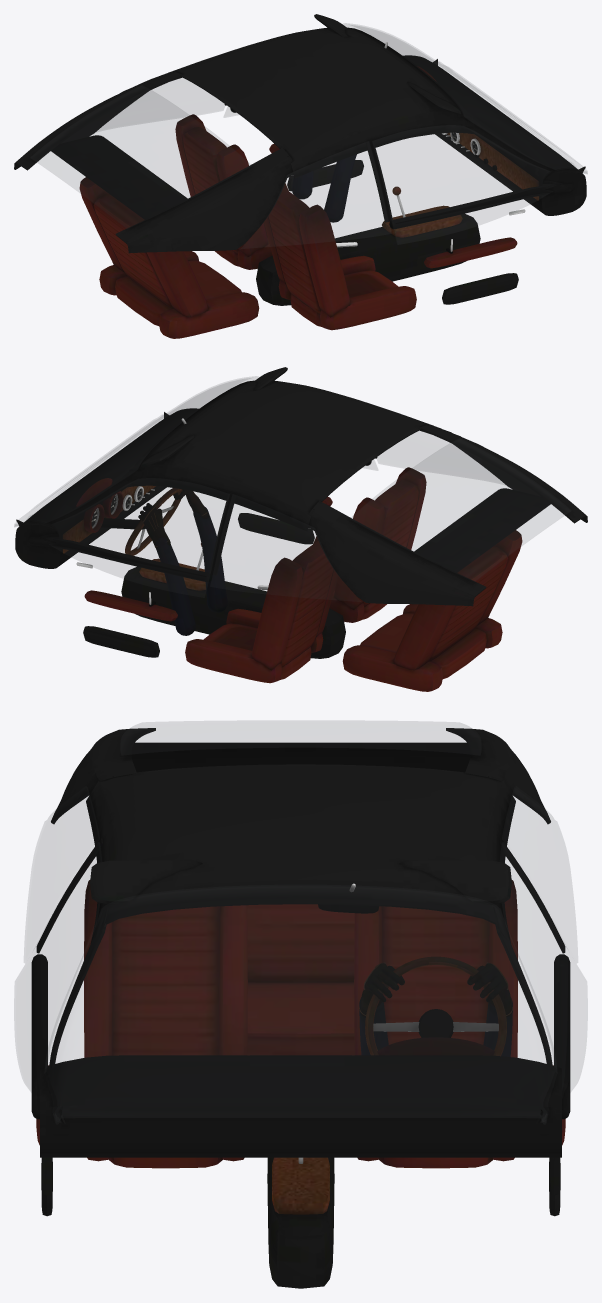
The model's file is ag_aurelia_cockpit_mid.glb.
3 renders of one model, top to bottom at view 1: azimuth 30°, elevation 25°; view 2: azimuth 150°, elevation 25°; view 3: azimuth 270°, elevation 25°, orthographic. The views are drawn at different scales.
Parts seen in each view (by area): view 1: cockpit_shell, cabin_glass, window_R, hands; view 2: cockpit_shell, cabin_glass, window_L, hands, steering_wheel; view 3: cockpit_shell, cabin_glass, window_R, window_L, hands, steering_wheel.
Part boxes in pixels (x1,y1,x2,y2): cockpit_shell: (14,14,586,338); cabin_glass: (31,23,587,248); window_R: (372,125,551,244); hands: (292,154,356,222); cockpit_shell: (15,367,587,691); cabin_glass: (14,376,570,601); window_L: (50,478,229,597); hands: (138,489,227,635); steering_wheel: (125,488,182,555); cockpit_shell: (31,728,570,1288); cabin_glass: (24,721,577,1123); window_R: (14,842,101,1122); window_L: (500,842,587,1122); hands: (359,962,512,1056); steering_wheel: (365,956,506,1056).
Size of the model in its own units: 2.29 by 1.11 by 1.57.
4 materials, 2 textured.
